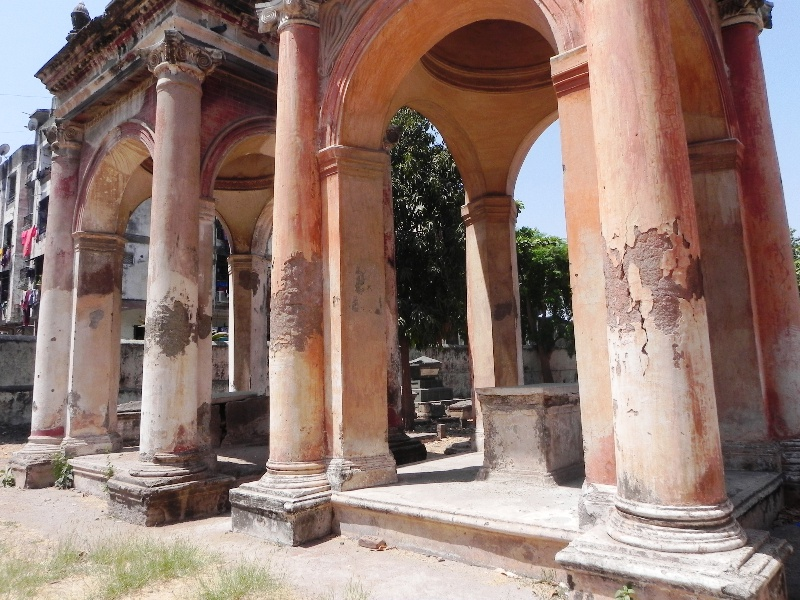Crack: (638, 317, 652, 387)
Spalling: (597, 217, 708, 362), (266, 248, 327, 355), (142, 297, 213, 359)
